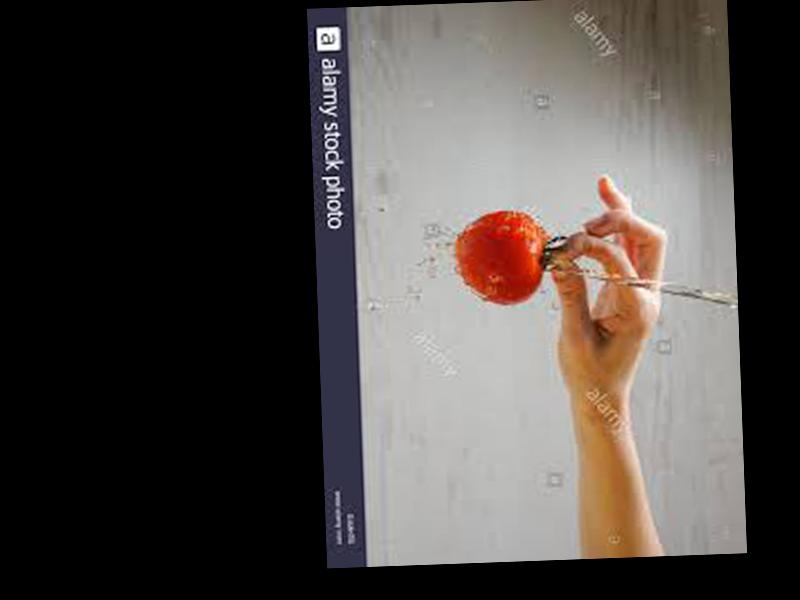Tomato: (452, 212, 547, 309)
